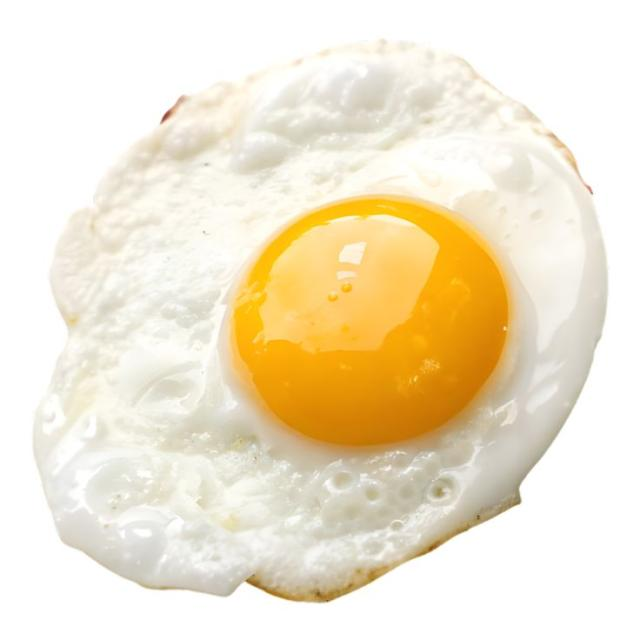fryed egg: (35, 42, 606, 599)
